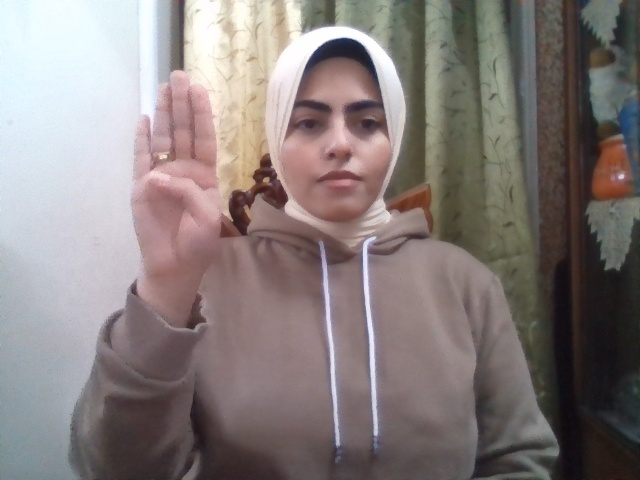B: (131, 70, 221, 285)
